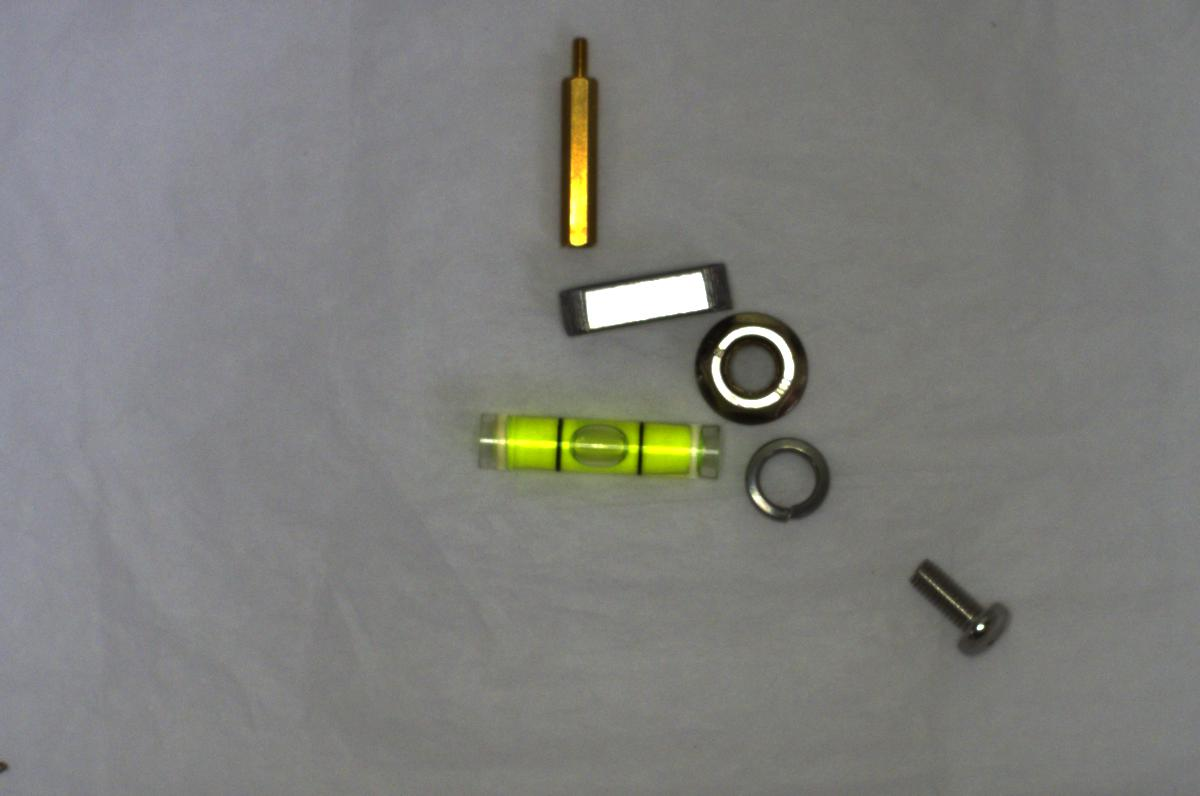Flange nut: (685, 310, 827, 422)
Hexagon pillar: (544, 26, 605, 258)
Horizontal bubble: (462, 399, 725, 492)
Keybar: (554, 250, 732, 335)
Round head screw: (900, 550, 1020, 665)
Spring washer: (733, 433, 833, 526)
